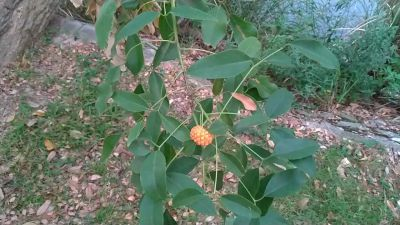eggs: (186, 122, 215, 147)
